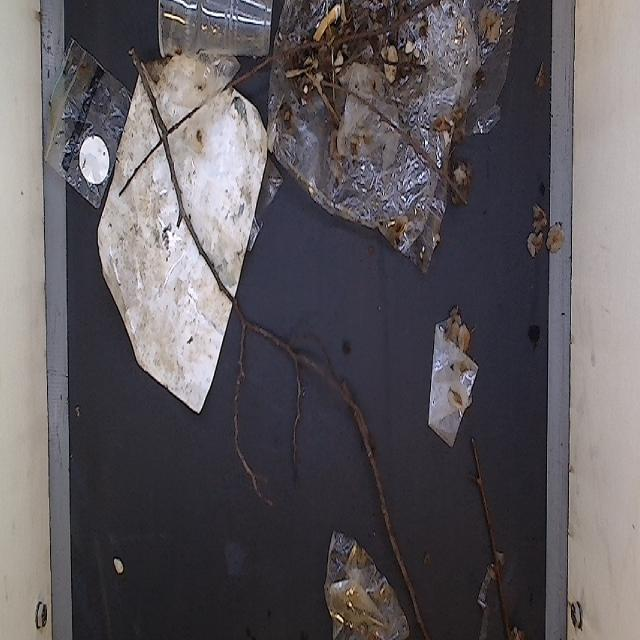food_packaging: (117, 41, 262, 416)
plastic_cups: (147, 0, 275, 81)
plastic_films: (276, 0, 524, 280), (319, 511, 415, 640), (44, 47, 124, 198), (427, 311, 481, 464)
